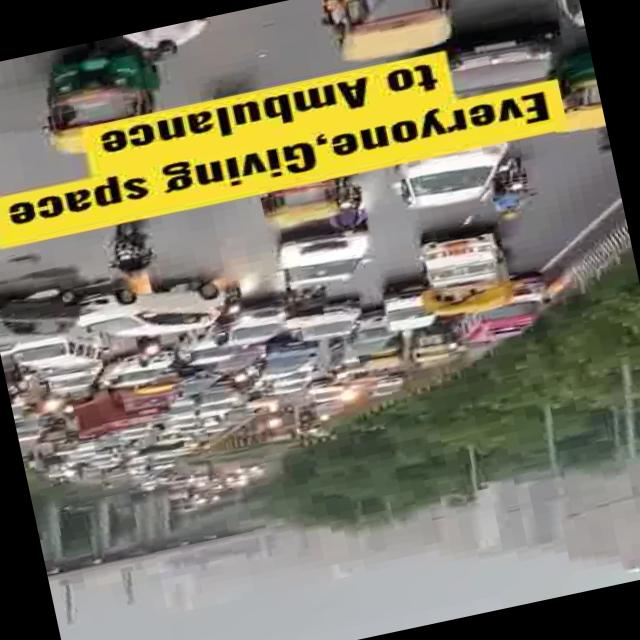ambulance: (454, 272, 549, 343)
